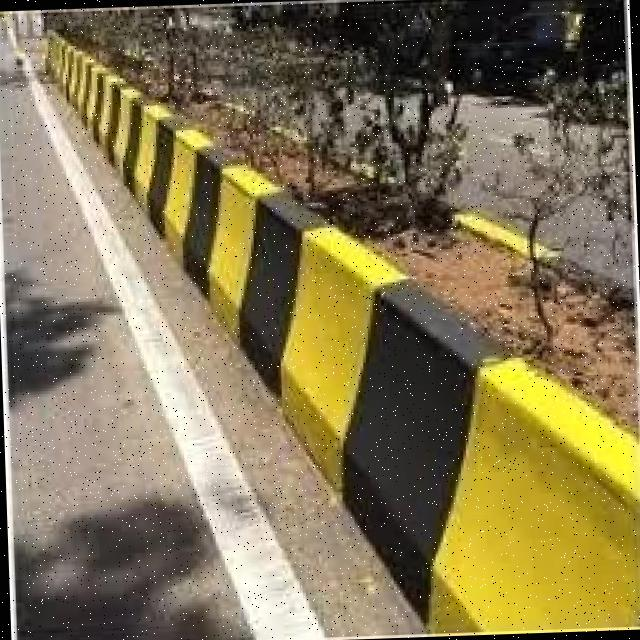curb: (370, 381, 640, 638), (257, 289, 489, 501), (181, 125, 278, 351), (109, 65, 174, 232), (48, 33, 98, 112)
